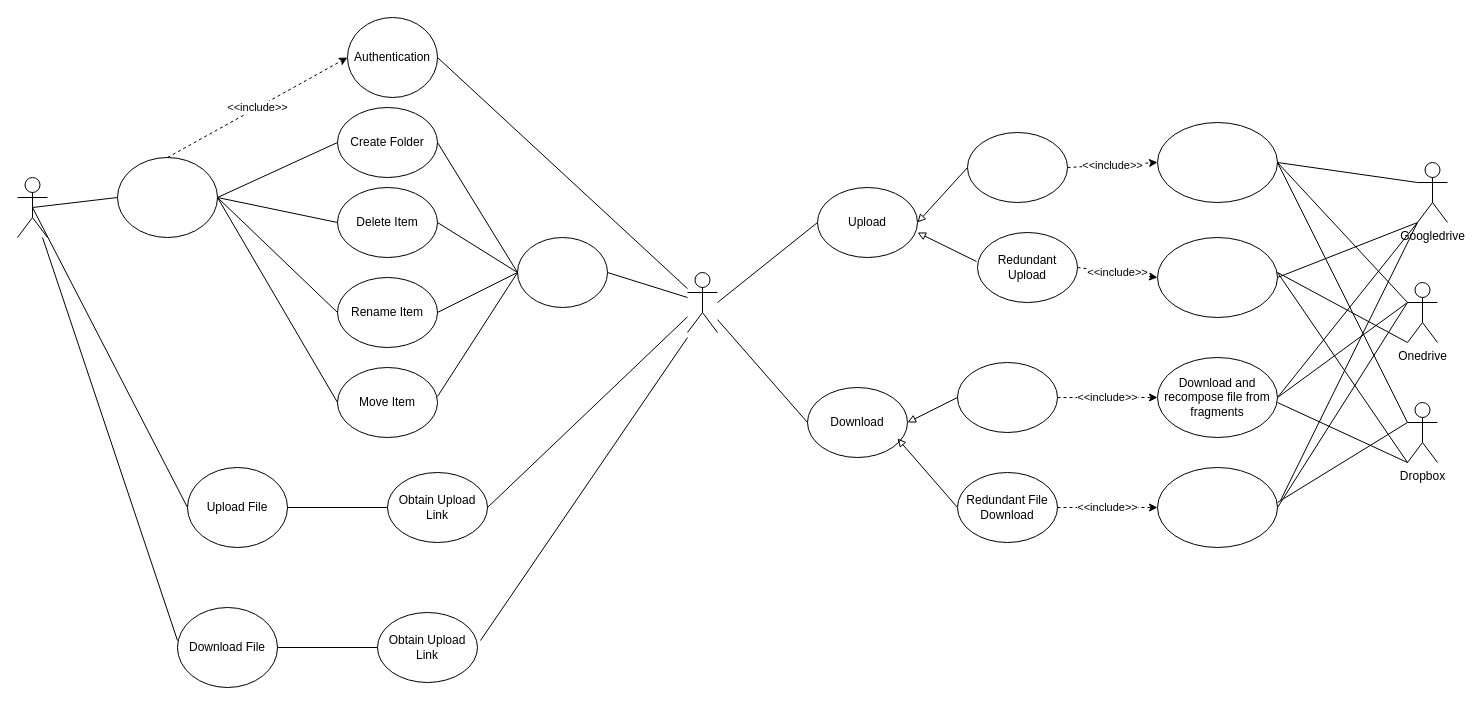
Image size: 1482x705. Some labels were removed from this diagram. The box of each missing label's shape, as (x1, y1, x2, y2) in pixels:
Find available service and retrieve file: (1156, 466, 1278, 548)
Fragmented File Download: (956, 362, 1058, 432)
Fragmented Upload: (966, 132, 1068, 202)
Manage Items: (116, 156, 218, 238)
Manage Items API Endpoint: (516, 236, 608, 308)
Splitting and upload fragments on services: (1156, 122, 1278, 202)
SToL Service: (686, 272, 718, 332)
Upload same file on different services: (1156, 236, 1278, 318)
User: (16, 176, 48, 238)
